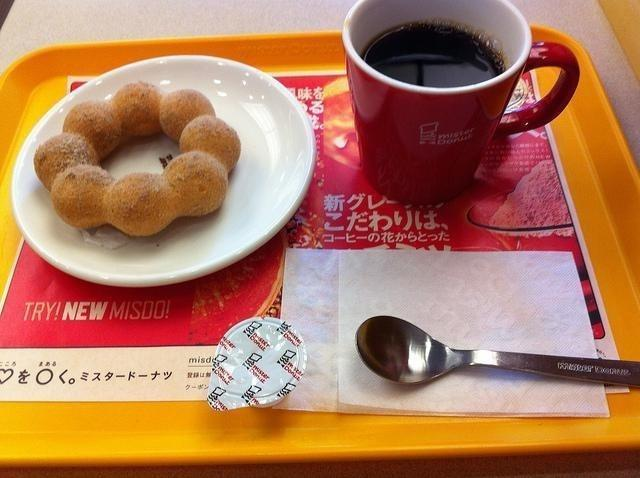cup-handle: (342, 1, 582, 207)
